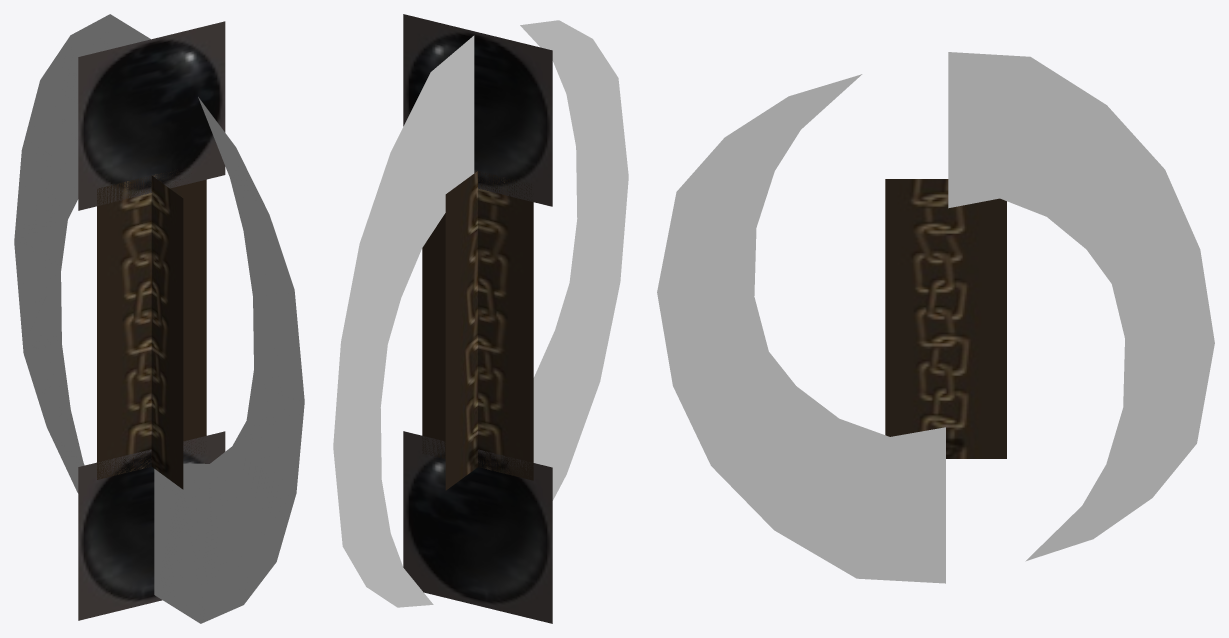
File: chainShot.fbx
3 views of the same model, side by side, from view 1: azimuth 30°, elevation 25°; view 2: azimuth 150°, elevation 25°; view 3: azimuth 270°, elevation 25° (orthographic). The views are drawn at different scales.
Parts seen in each view (by area): view 1: motion_blur_2, chain_0, ball_1, motion_blur_3, motion_blur_0, ball_0, chain_1, motion_blur_1; view 2: motion_blur_3, motion_blur_2, ball_0, chain_0, ball_1, motion_blur_1, motion_blur_0, chain_1; view 3: motion_blur_2, motion_blur_3, chain_1, motion_blur_0, motion_blur_1.
Part boxes in pixels (x1,y1,x2,y2): motion_blur_2: (154,97,304,623); chain_0: (97,169,206,479); ball_1: (78,21,225,210); motion_blur_3: (14,14,150,493); motion_blur_0: (154,101,304,623); ball_0: (78,431,225,620); chain_1: (151,175,183,489); motion_blur_1: (14,14,113,492); motion_blur_3: (333,35,474,607); motion_blur_2: (520,20,628,500); ball_0: (403,431,552,623); chain_0: (422,170,533,480); ball_1: (403,14,552,206); motion_blur_1: (333,37,474,606); motion_blur_0: (521,20,628,499); chain_1: (445,171,477,490); motion_blur_2: (657,74,945,583); motion_blur_3: (948,52,1214,561); chain_1: (885,179,1006,458); motion_blur_0: (657,77,945,581); motion_blur_1: (948,54,1214,559).
Bounding box in the file's own units: 60 × 220 × 206.
2 materials, 2 textured.
